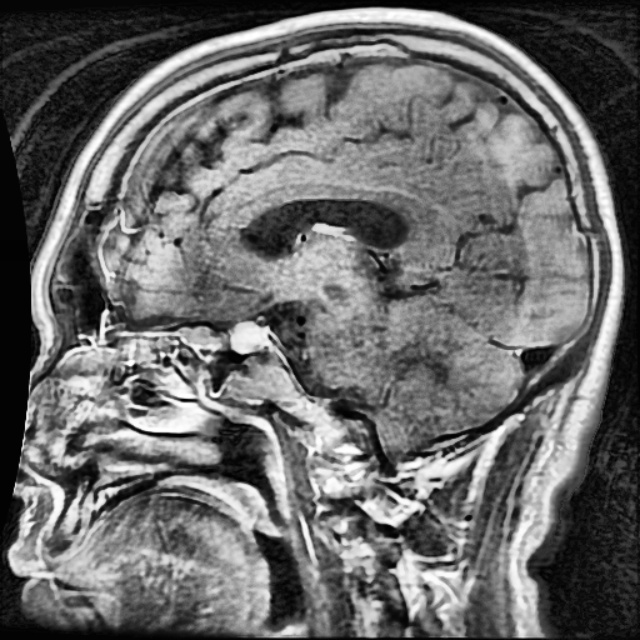Pituitary: (232, 320, 272, 352)
